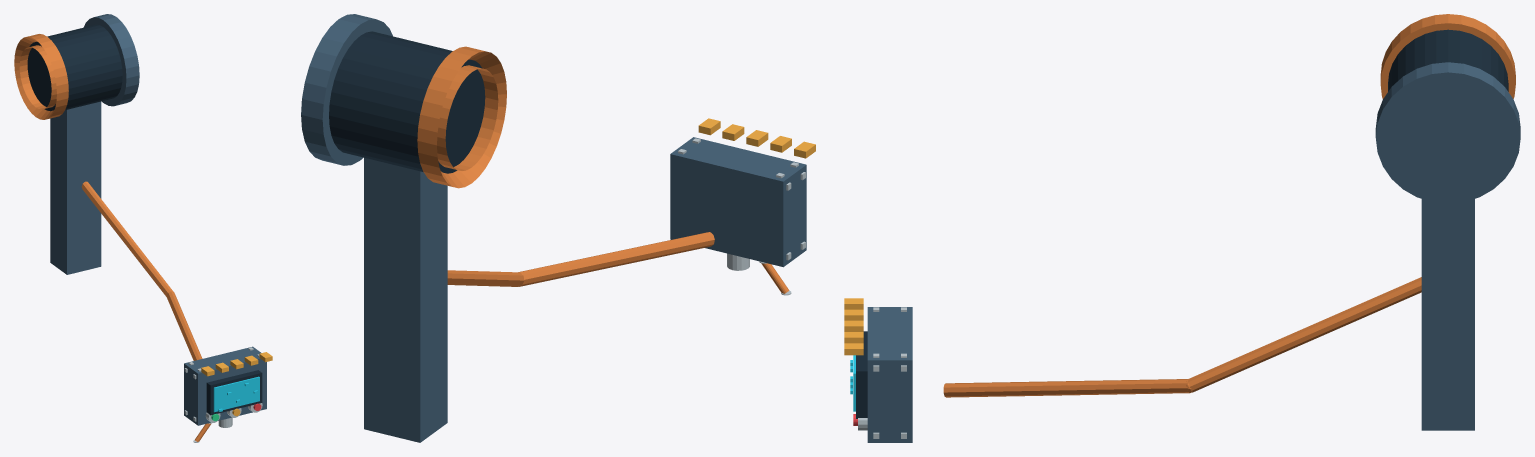
The model's file is 18_L75_PrecisionFaradayCupDosimeter.fbx.
3 renders of one model, left to right at view 1: azimuth 30°, elevation 25°; view 2: azimuth 150°, elevation 25°; view 3: azimuth 270°, elevation 25°, orthographic. The views are drawn at different scales.
Parts seen in each view (by area): view 1: PrecisionFaradayCupDosimeter, PrecisionFaradayCupDosimeter_Part_0000, PrecisionFaradayCupDosimeter_Part_0001, PrecisionFaradayCupDosimeter_Part_0002; view 2: PrecisionFaradayCupDosimeter, PrecisionFaradayCupDosimeter_Part_0000, PrecisionFaradayCupDosimeter_Part_0001, PrecisionFaradayCupDosimeter_Part_0002; view 3: PrecisionFaradayCupDosimeter, PrecisionFaradayCupDosimeter_Part_0002, PrecisionFaradayCupDosimeter_Part_0000, PrecisionFaradayCupDosimeter_Part_0001.
Part boxes in pixels (x1,y1,x2,y2): PrecisionFaradayCupDosimeter: (50,101,272,442); PrecisionFaradayCupDosimeter_Part_0000: (27,24,122,111); PrecisionFaradayCupDosimeter_Part_0001: (14,34,68,119); PrecisionFaradayCupDosimeter_Part_0002: (83,14,139,106); PrecisionFaradayCupDosimeter: (364,118,815,442); PrecisionFaradayCupDosimeter_Part_0000: (329,31,485,173); PrecisionFaradayCupDosimeter_Part_0001: (417,46,506,188); PrecisionFaradayCupDosimeter_Part_0002: (301,14,392,165); PrecisionFaradayCupDosimeter: (844,199,1474,442); PrecisionFaradayCupDosimeter_Part_0002: (1375,62,1520,203); PrecisionFaradayCupDosimeter_Part_0000: (1388,29,1508,91); PrecisionFaradayCupDosimeter_Part_0001: (1380,14,1515,98).
Bounding box in the file's own units: 78 × 198 × 280.
